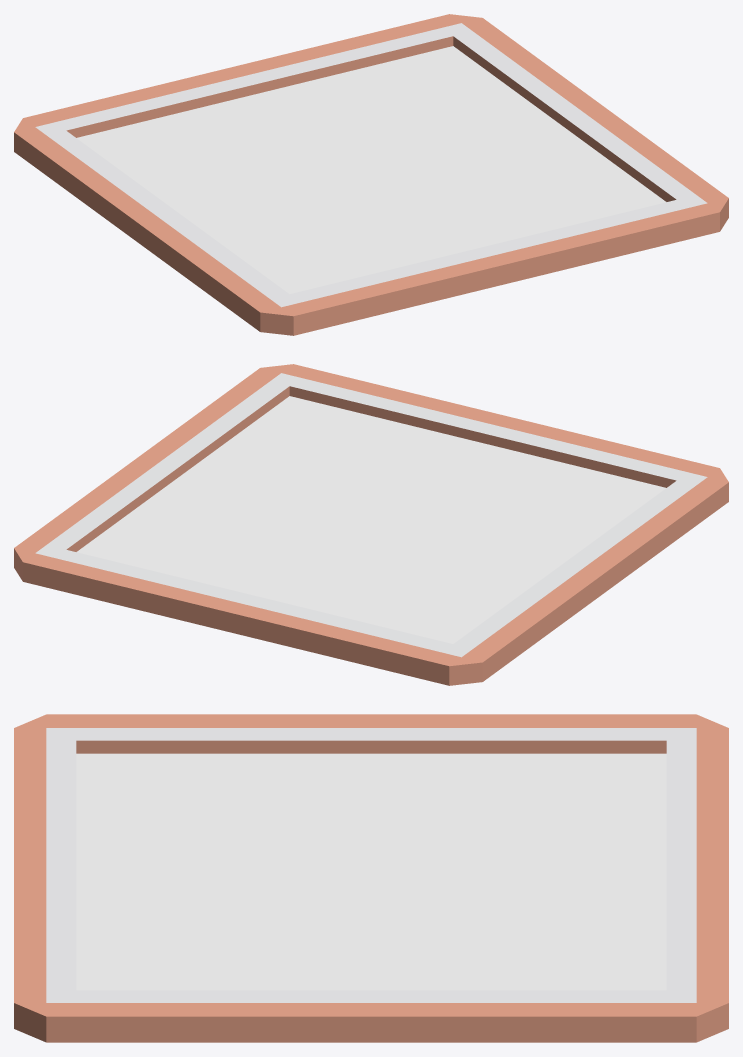
File: metalTileLarge.glb
The picture shows the model from 3 angles, top to bottom: view 1: azimuth 30°, elevation 25°; view 2: azimuth 150°, elevation 25°; view 3: azimuth 270°, elevation 25°; orthographic projection. The views are drawn at different scales.
Visible parts, largest first — view 1: metalTileLarge; view 2: metalTileLarge; view 3: metalTileLarge.
Boxes of the visible parts, left/top/right/bottom form: metalTileLarge: left=14, top=14, right=728, bottom=335; metalTileLarge: left=14, top=364, right=728, bottom=685; metalTileLarge: left=14, top=714, right=728, bottom=1042.
Size of the model in its own units: 20 by 0.8 by 20.
